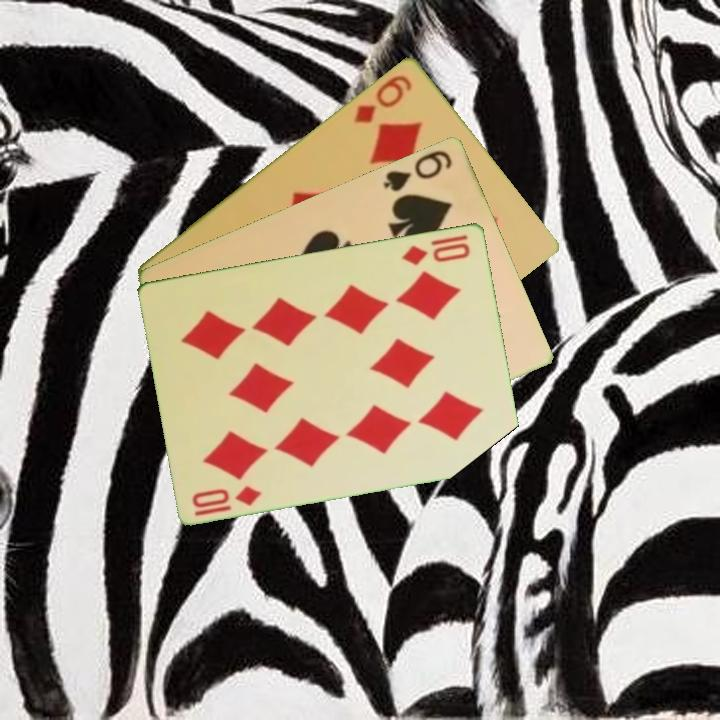10d: (188, 481, 265, 519), (399, 239, 474, 268)
6d: (350, 70, 415, 126)
6s: (380, 146, 455, 194)
